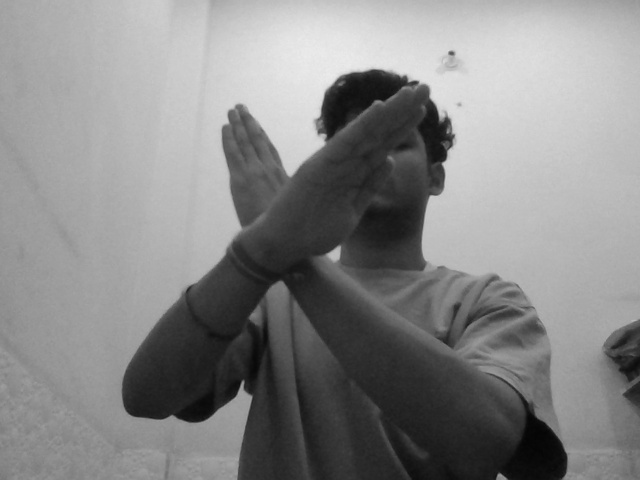No: (195, 75, 443, 296)
